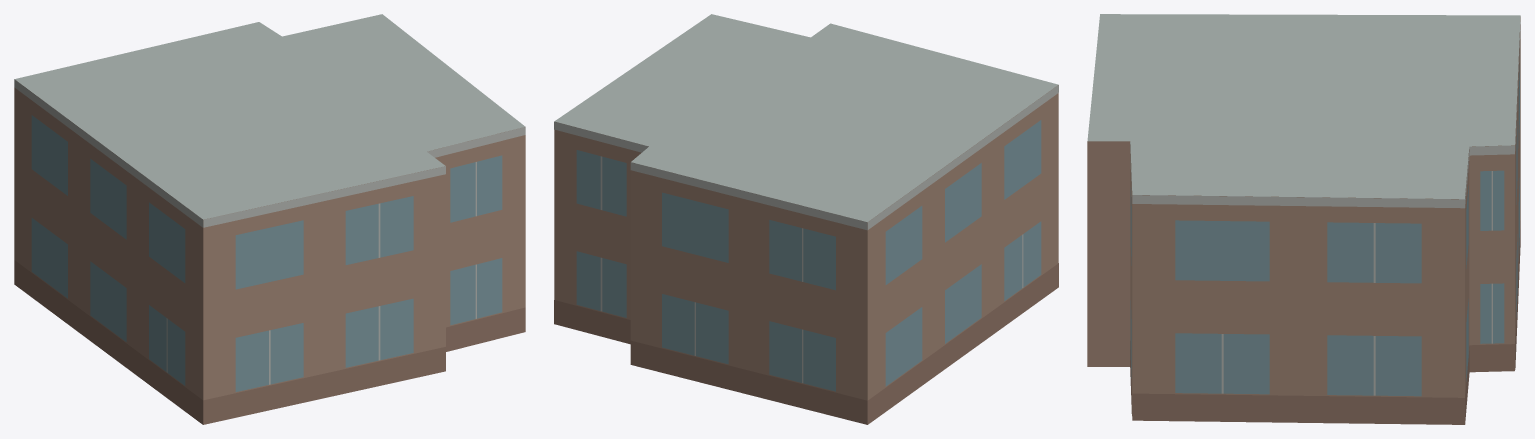
File: survey-upis-32542172.glb
3 renders of one model, left to right at view 1: azimuth 30°, elevation 25°; view 2: azimuth 150°, elevation 25°; view 3: azimuth 270°, elevation 25°, orthographic. The views are drawn at different scales.
Visible parts, largest first — view 1: survey-upis-32542172.tmp; view 2: survey-upis-32542172.tmp; view 3: survey-upis-32542172.tmp.
Part boxes in pixels (left/top/right/bottom): survey-upis-32542172.tmp: left=14, top=14, right=525, bottom=424; survey-upis-32542172.tmp: left=554, top=14, right=1058, bottom=424; survey-upis-32542172.tmp: left=1087, top=14, right=1520, bottom=424.
Bounding box in the file's own units: 10.74 × 6.1 × 10.62.
